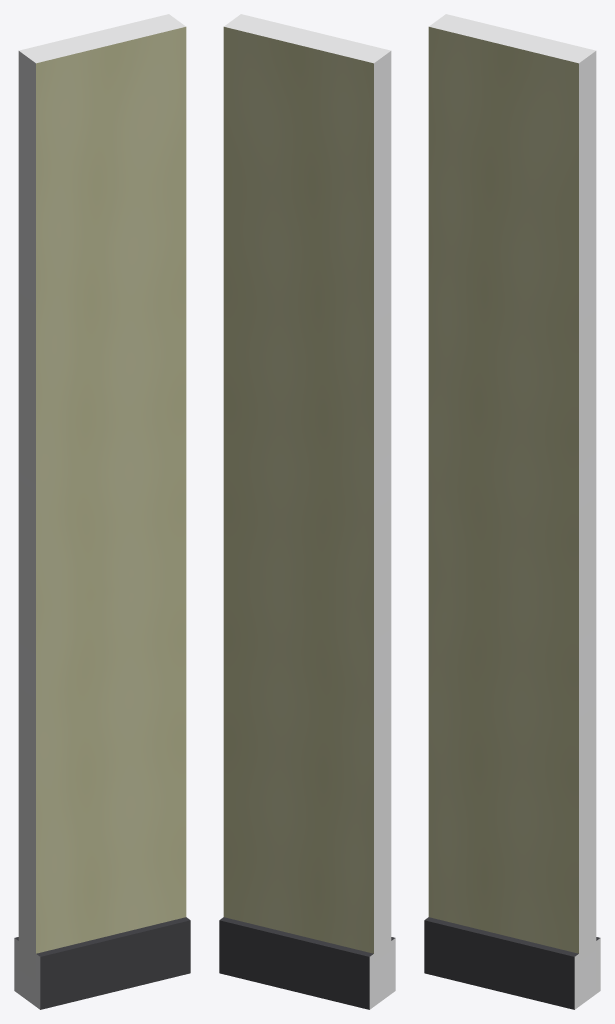
Rendered from SM_Buildings_Wall_HALFx3_01_DoubleWallpaper.fbx.
The picture shows the model from 3 angles, left to right: view 1: azimuth 30°, elevation 25°; view 2: azimuth 150°, elevation 25°; view 3: azimuth 330°, elevation 25°; orthographic projection.
Visible parts, largest first — view 1: SM_Buildings_Wall_HALFx3_01_DoubleWallpaper; view 2: SM_Buildings_Wall_HALFx3_01_DoubleWallpaper; view 3: SM_Buildings_Wall_HALFx3_01_DoubleWallpaper.
Part boxes in pixels (<box>): SM_Buildings_Wall_HALFx3_01_DoubleWallpaper: <box>14,14,190,1009</box>; SM_Buildings_Wall_HALFx3_01_DoubleWallpaper: <box>219,14,395,1009</box>; SM_Buildings_Wall_HALFx3_01_DoubleWallpaper: <box>424,14,600,1009</box>.
Bounding box in the file's own units: 50 × 300 × 15.
1 material, 1 textured.
